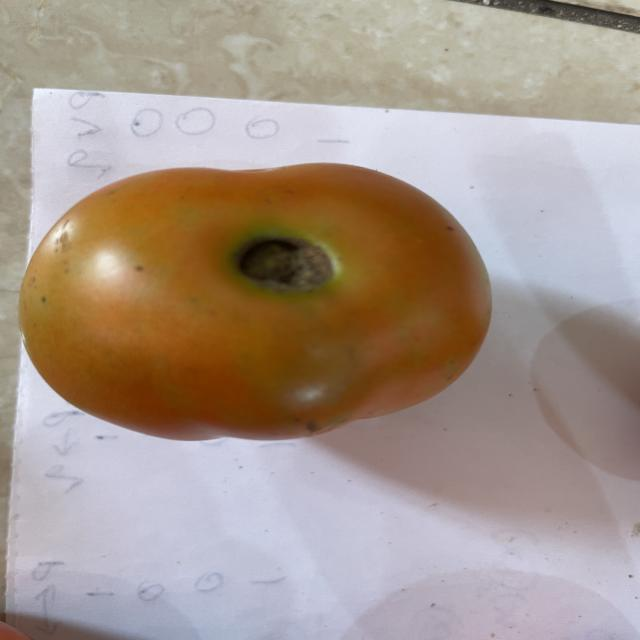fruitworm_bore: (232, 228, 338, 303)
